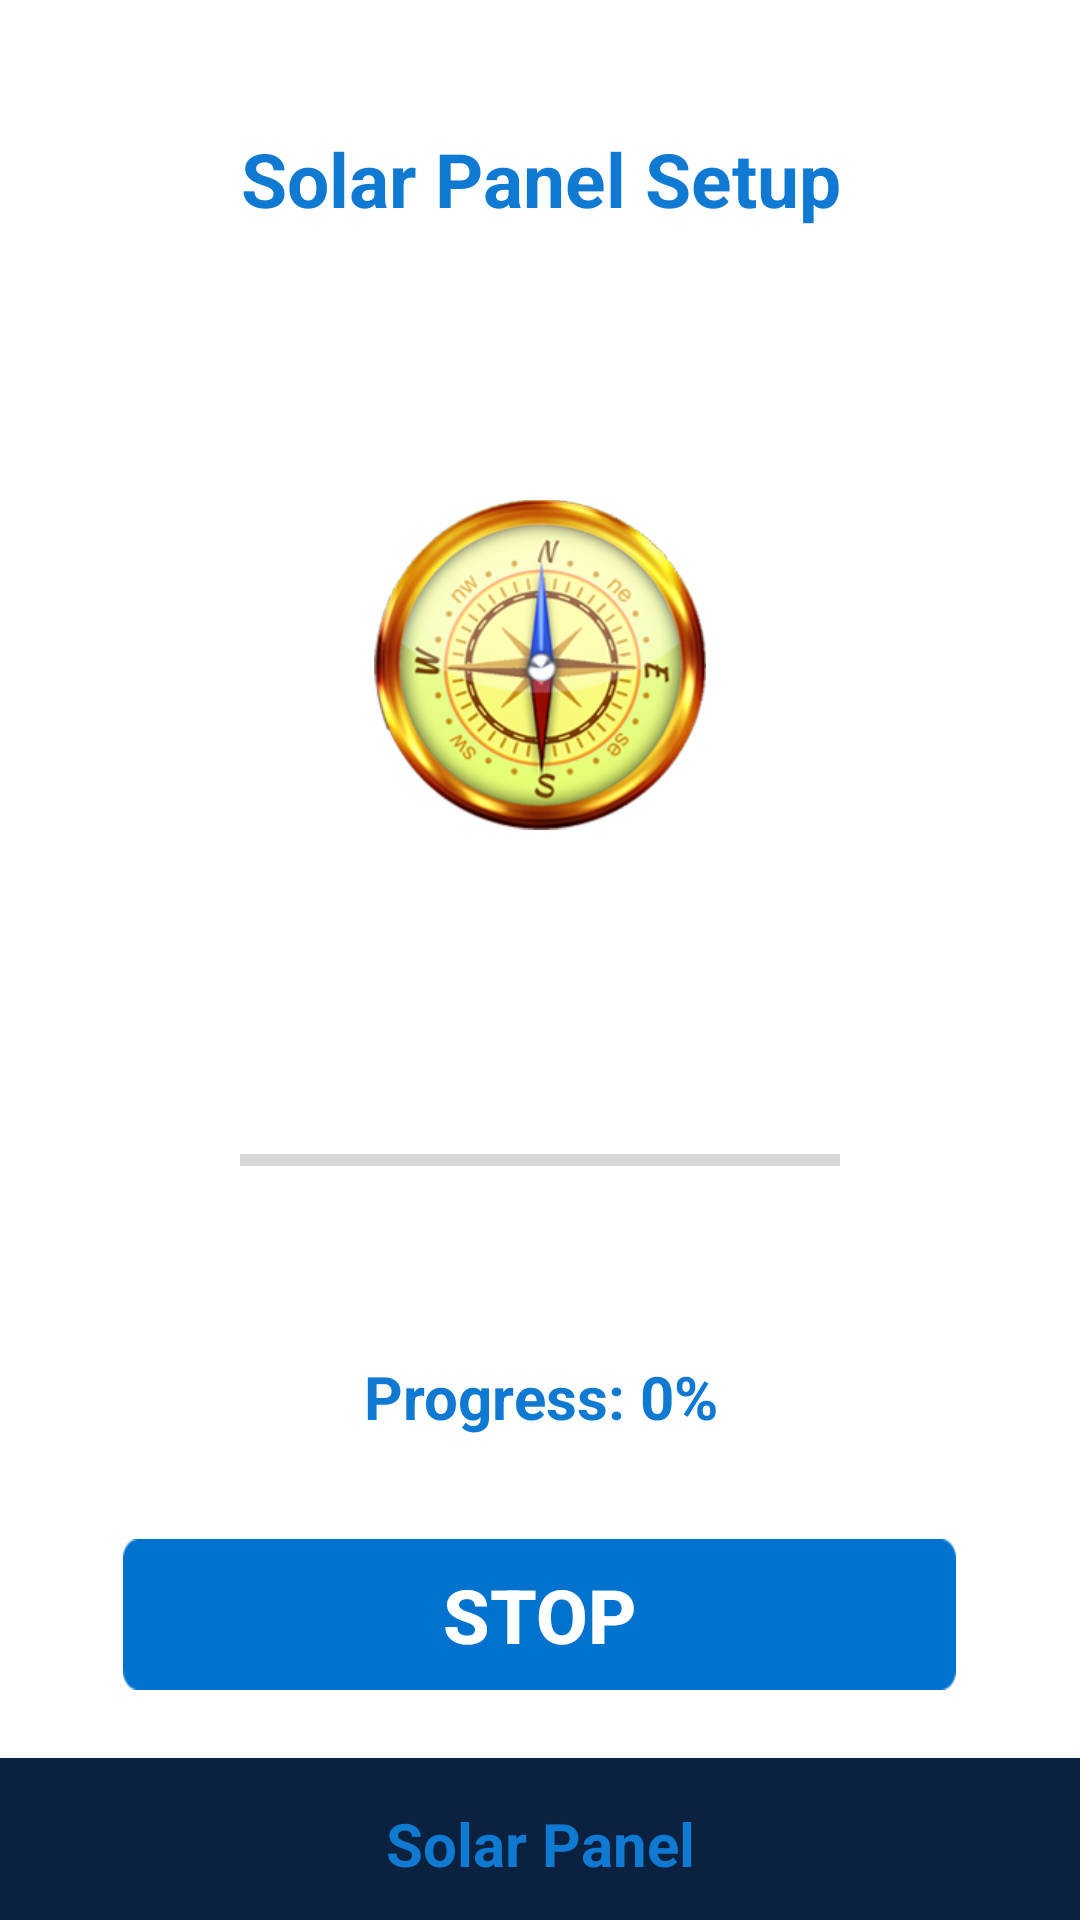

Where icons sit on this 1080*1920 app screen, as box=[x1, y1, x2, y2]:
compass: box=[374, 500, 706, 830]
